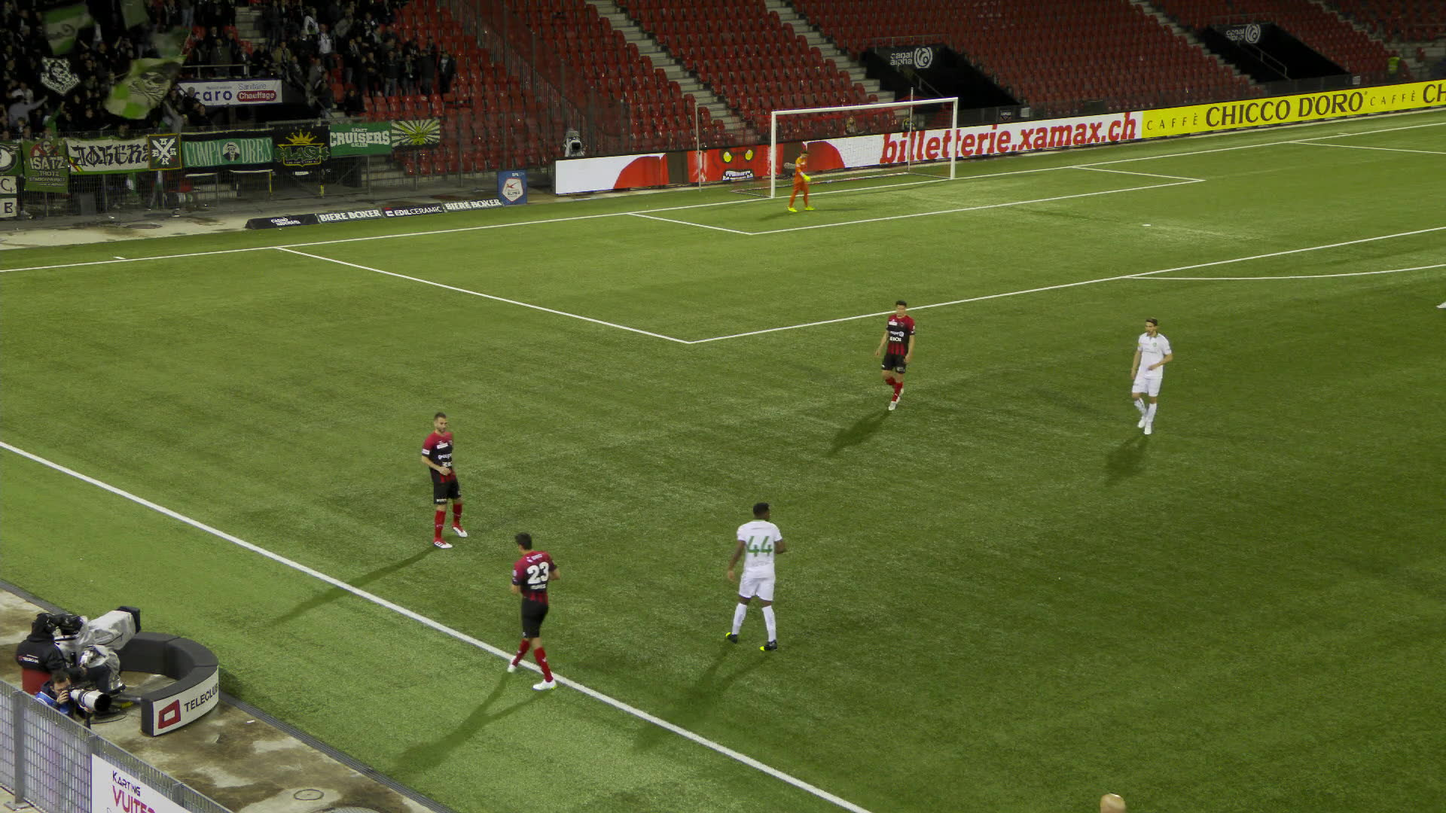ball: (512, 575, 523, 590)
player: (725, 500, 785, 650), (507, 531, 562, 691), (420, 410, 467, 549), (1132, 316, 1171, 436), (876, 300, 914, 410), (787, 151, 815, 212)
